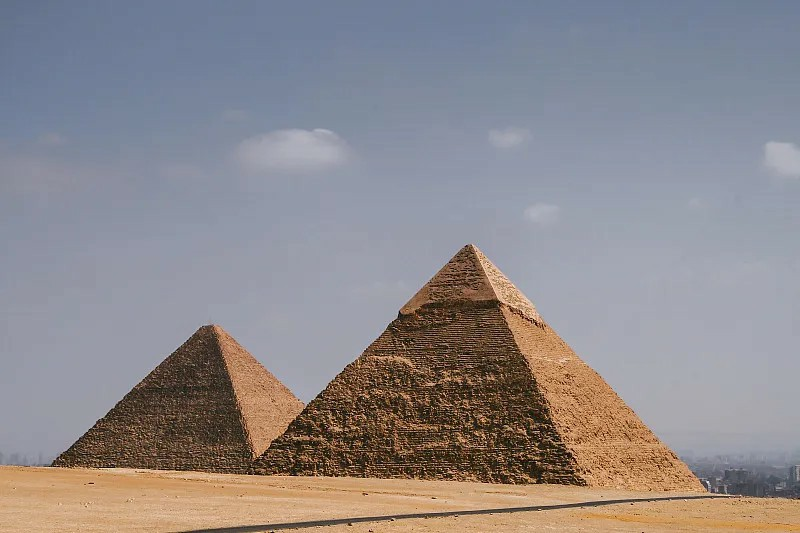Pyramid: (248, 242, 710, 497), (51, 323, 306, 475)
